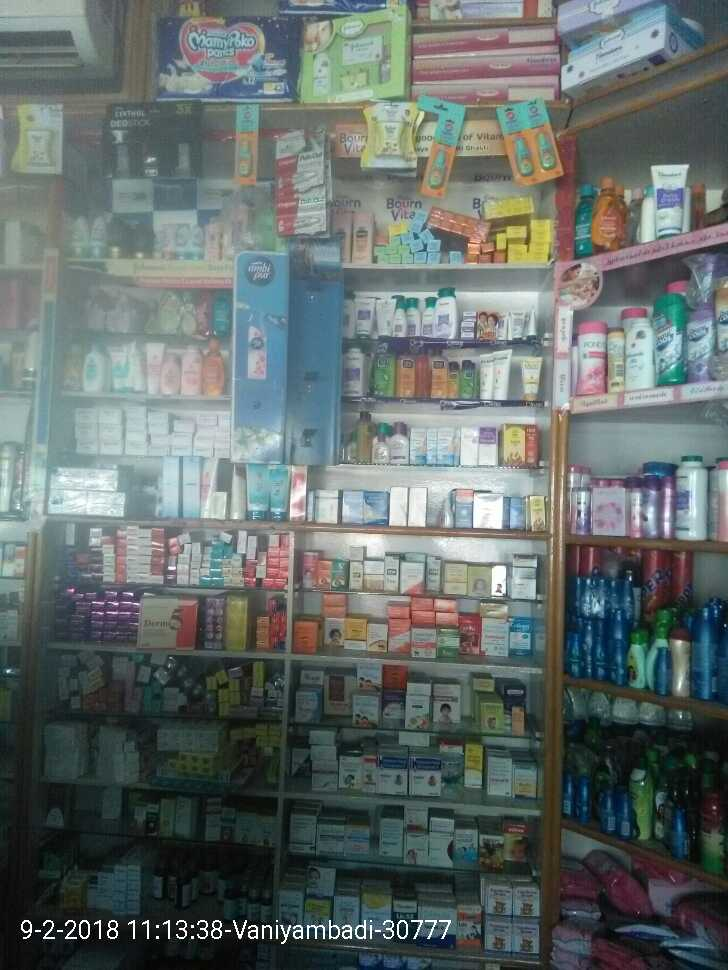reject: (314, 247, 533, 483)
